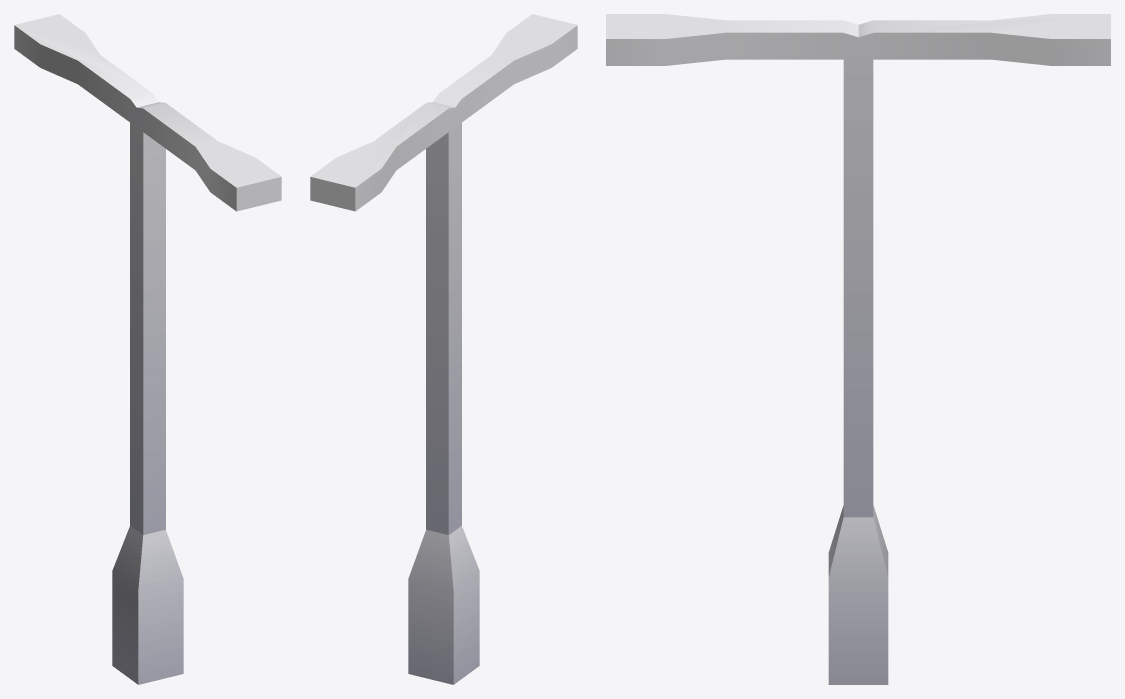
File: light-square-double.fbx
3 views of the same model, side by side, from view 1: azimuth 30°, elevation 25°; view 2: azimuth 150°, elevation 25°; view 3: azimuth 270°, elevation 25° (orthographic). The views are drawn at different scales.
Parts seen in each view (by area): view 1: light-square-double; view 2: light-square-double; view 3: light-square-double.
Part boxes in pixels (x1,y1,x2,y2): light-square-double: [14, 14, 281, 684]; light-square-double: [310, 14, 577, 684]; light-square-double: [606, 14, 1110, 684].
Size of the model in its own units: 0.05 by 0.6 by 0.425.
